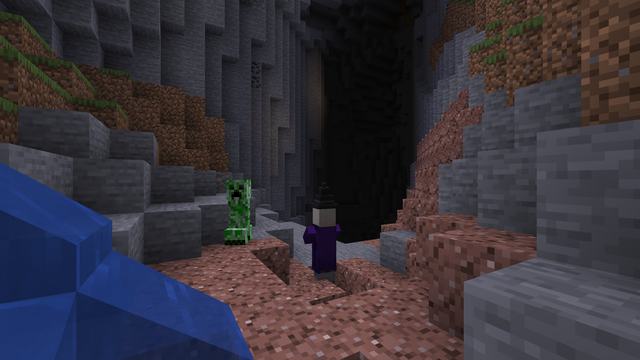creepers: (225, 176, 253, 244)
sorcieres: (308, 203, 338, 283)
